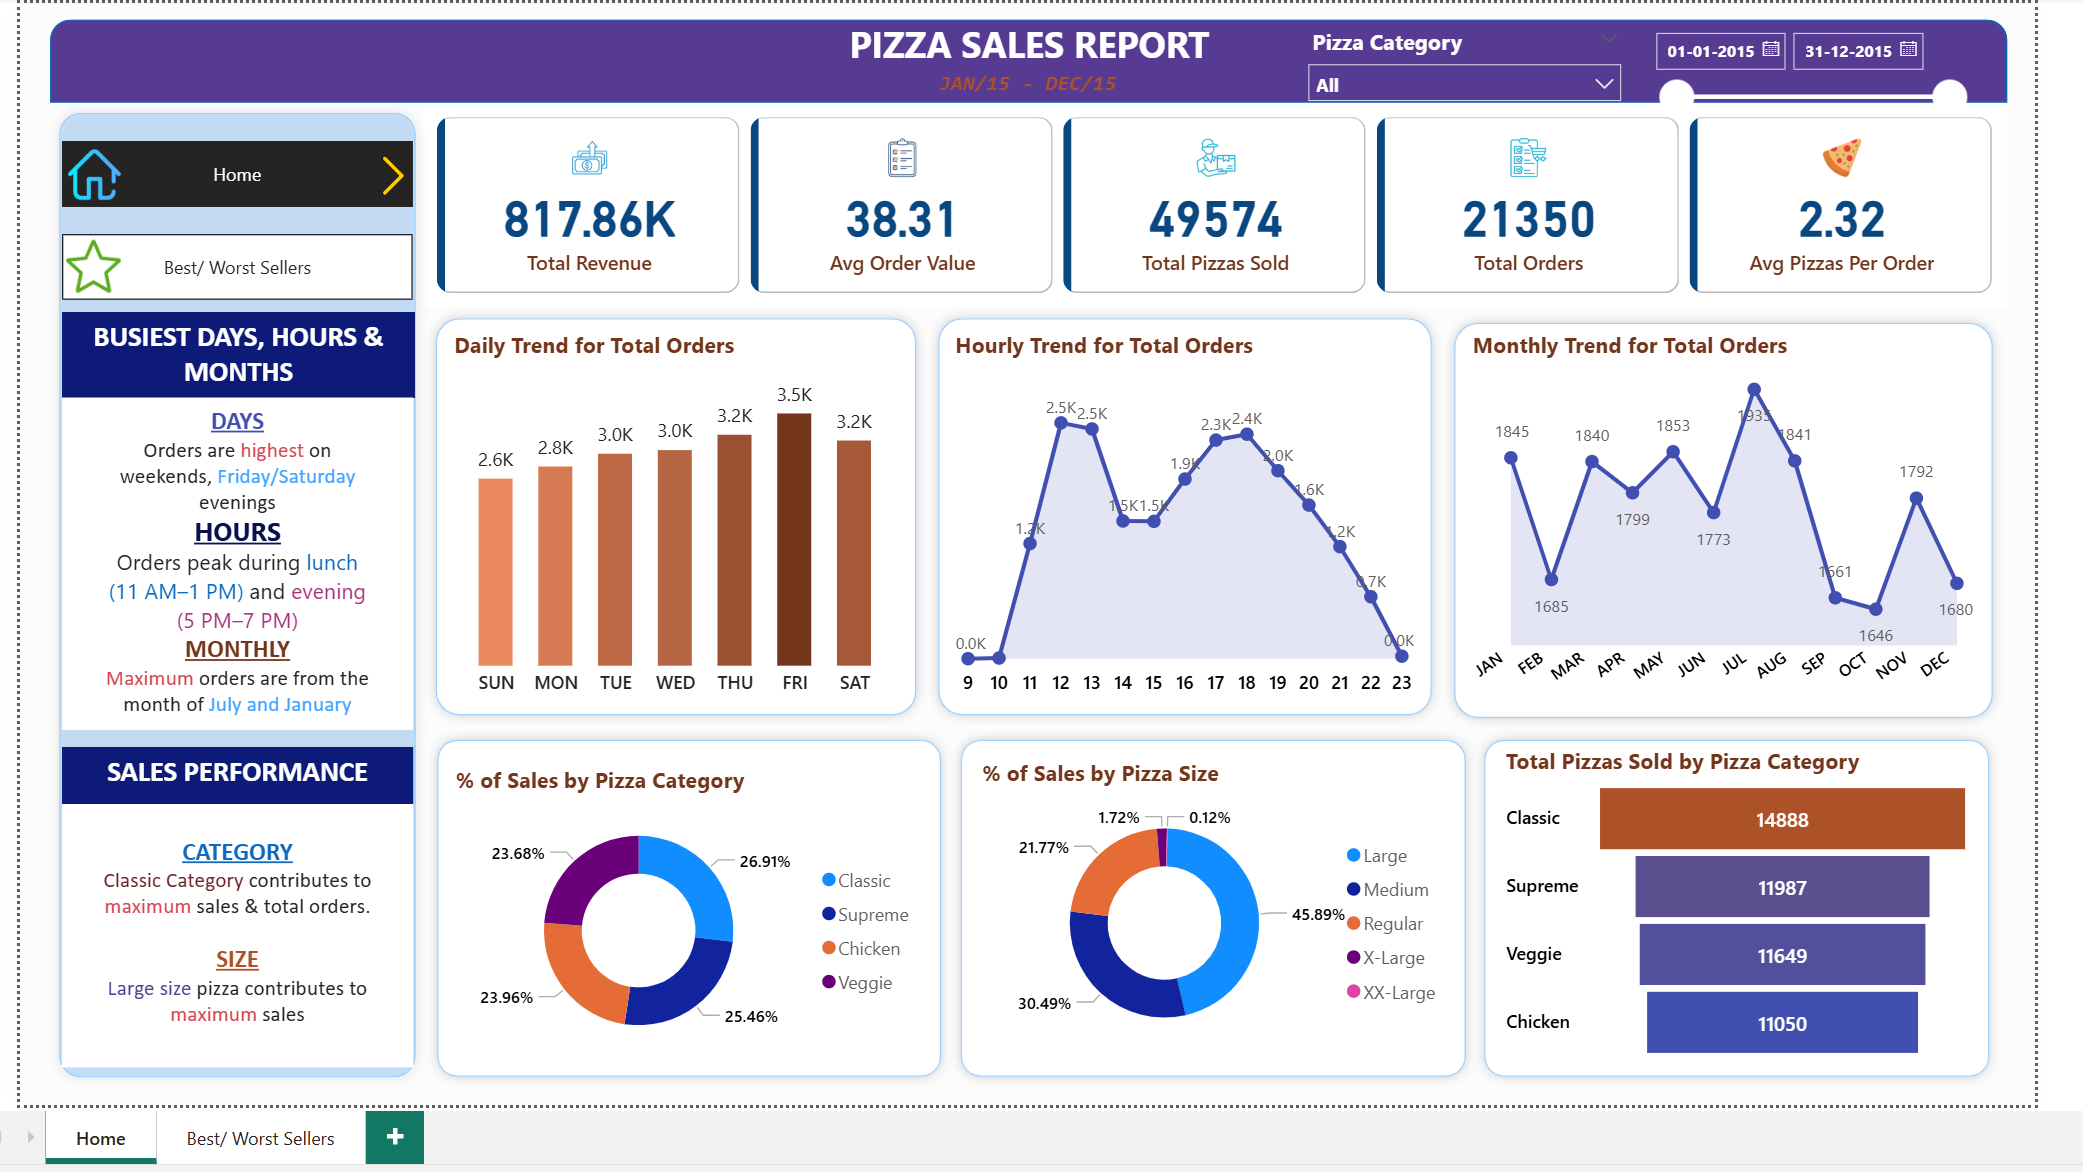

The dashboard page shown, as its layout file describes it:
{"tool":"powerbi","page":{"name":"Home","canvas":[1500,820],"ordinal":0},"visuals":[{"type":"cardVisual","fields":{"Data":["pizza_db pizza_sales.Total Revenue","pizza_db pizza_sales.Avg Order Value","pizza_db pizza_sales.Total Pizzas Sold","pizza_db pizza_sales.Total Orders","pizza_db pizza_sales.Avg Pizzas Per Order"]},"box":[300.5,74.7,1178.3,151.1],"z":0},{"type":"shape","box":[22.3,12.7,1456.5,62],"z":1000},{"type":"textbox","box":[601.1,6.4,298.9,62],"z":2000},{"type":"textbox","box":[675.8,44.5,149.5,42.9],"z":3000},{"type":"shape","box":[301.8,226.4,373.7,311.4],"z":4000},{"type":"clusteredColumnChart","title":"Daily Trend for Total Orders","fields":{"Category":["pizza_db pizza_sales.Order Day"],"Y":["pizza_db pizza_sales.Total Orders"]},"box":[318.6,243.1,338.9,281.5],"z":5000},{"type":"shape","box":[1058.8,230,416.8,310.2],"z":6000},{"type":"areaChart","title":"Monthly Trend for Total Orders","fields":{"Category":["pizza_db pizza_sales.Order Month"],"Y":["pizza_db pizza_sales.Total Orders"]},"box":[1075.5,243.1,382.1,281.5],"z":7000},{"type":"shape","box":[302.2,540.7,391,266.8],"z":8000},{"type":"shape","box":[691.8,540.7,391.9,266.8],"z":9000},{"type":"shape","box":[1081.3,540.7,391.9,266.8],"z":10000},{"type":"donutChart","title":"% of Sales by Pizza Category","fields":{"Category":["pizza_db pizza_sales.pizza_category"],"Y":["pizza_db pizza_sales.Total Revenue"]},"box":[318.7,566.6,356.5,224.3],"z":11000},{"type":"donutChart","title":"% of Sales by Pizza Size","fields":{"Y":["pizza_db pizza_sales.Total Revenue"],"Category":["pizza_db pizza_sales.pizza_size"]},"box":[710.7,561.9,356.5,224.3],"z":12000},{"type":"funnel","title":"Total Pizzas Sold by Pizza Category","fields":{"Category":["pizza_db pizza_sales.pizza_category"],"Y":["pizza_db pizza_sales.Total Pizzas Sold"]},"box":[1100.2,552.5,356.5,238.5],"z":13000},{"type":"shape","box":[21.2,73.8,281.2,733.8],"z":14000},{"type":"textbox","box":[31.2,230,262.5,63.8],"z":15000},{"type":"textbox","box":[31.2,293.8,261.2,247.5],"z":16000},{"type":"textbox","box":[31.2,553.8,261.2,42.5],"z":17000},{"type":"textbox","box":[31.2,596.2,261.2,196.2],"z":18000},{"type":"slicer","fields":{"Values":["pizza_db pizza_sales.pizza_category"]},"box":[949.1,11.8,252.6,61.4],"z":19000},{"type":"slicer","fields":{"Values":["pizza_db pizza_sales.Date"]},"box":[1204.1,11.8,252.6,75.6],"z":20000},{"type":"pageNavigator","box":[30.9,103.1,261.3,49.8],"z":21000},{"type":"pageNavigator","box":[30.9,171.9,261.3,49.8],"z":22000},{"type":"image","box":[254.4,113.4,46.4,29.2],"z":23000},{"type":"image","box":[36.1,106.6,39.5,43],"z":24000},{"type":"image","box":[32.7,175.3,44.7,41.3],"z":25000},{"type":"shape","box":[675.5,226.4,383.3,311.4],"z":26000},{"type":"lineChart","title":"Hourly Trend for Total Orders","fields":{"Y":["pizza_db pizza_sales.Total Orders"],"Category":["pizza_db pizza_sales.Order Hour"]},"box":[691.2,243.8,351.2,281.2],"z":27000}]}

Visuals, with their boxes on the page's 1500x820 design canvas (x1, y1, x2, y2). These are canvas units, not pixel positions in the 2083x1172 screenshot, which may show the page scaled, cropped or inside an application window:
cardVisual - pizza_db pizza_sales.Total Revenue x pizza_db pizza_sales.Avg Order Value: bbox=[300, 75, 1479, 226]
shape: bbox=[22, 13, 1479, 75]
textbox: bbox=[601, 6, 900, 68]
textbox: bbox=[676, 44, 825, 87]
shape: bbox=[302, 226, 676, 538]
"Daily Trend for Total Orders" clusteredColumnChart: bbox=[319, 243, 658, 525]
shape: bbox=[1059, 230, 1476, 540]
"Monthly Trend for Total Orders" areaChart: bbox=[1076, 243, 1458, 525]
shape: bbox=[302, 541, 693, 808]
shape: bbox=[692, 541, 1084, 808]
shape: bbox=[1081, 541, 1473, 808]
"% of Sales by Pizza Category" donutChart: bbox=[319, 567, 675, 791]
"% of Sales by Pizza Size" donutChart: bbox=[711, 562, 1067, 786]
"Total Pizzas Sold by Pizza Category" funnel: bbox=[1100, 552, 1457, 791]
shape: bbox=[21, 74, 302, 808]
textbox: bbox=[31, 230, 294, 294]
textbox: bbox=[31, 294, 292, 541]
textbox: bbox=[31, 554, 292, 596]
textbox: bbox=[31, 596, 292, 792]
slicer - pizza_db pizza_sales.pizza_category: bbox=[949, 12, 1202, 73]
slicer - pizza_db pizza_sales.Date: bbox=[1204, 12, 1457, 87]
pageNavigator: bbox=[31, 103, 292, 153]
pageNavigator: bbox=[31, 172, 292, 222]
image: bbox=[254, 113, 301, 143]
image: bbox=[36, 107, 76, 150]
image: bbox=[33, 175, 77, 217]
shape: bbox=[676, 226, 1059, 538]
"Hourly Trend for Total Orders" lineChart: bbox=[691, 244, 1042, 525]
